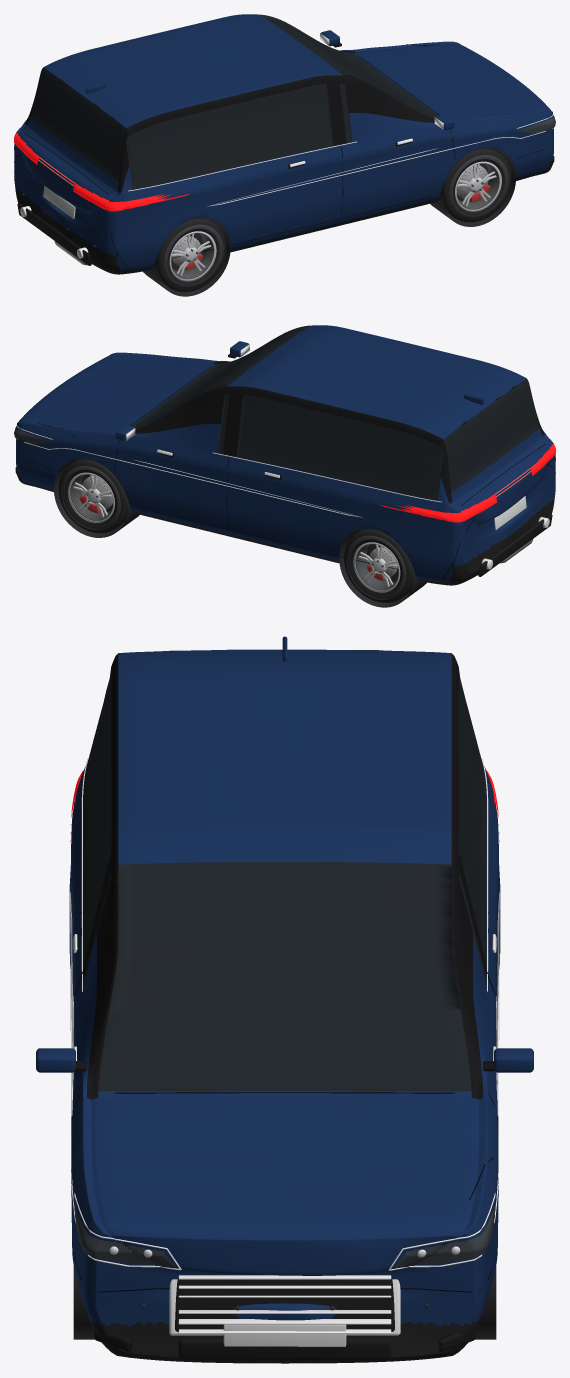
Rendered from van.glb.
The picture shows the model from 3 angles, top to bottom: view 1: azimuth 30°, elevation 25°; view 2: azimuth 150°, elevation 25°; view 3: azimuth 270°, elevation 25°; orthographic projection. The views are drawn at different scales.
Parts seen in each view (by area): view 1: karosserie, bt:rad_hr, bt:rad_vr, rueckleuchte_-1, diffusor, scheinwerfer_rand_-1, radhausschale.003, radhausschale.001, bt:bremse_vr, kennzeichen_hinten, bt:bremse_hr; view 2: karosserie, bt:rad_hl, bt:rad_vl, rueckleuchte_1, diffusor, scheinwerfer_rand_1, radhausschale.002, radhausschale, bt:bremse_vl, bt:bremse_hl, kennzeichen_hinten; view 3: karosserie, grill, lufteinlass, kennzeichen_vorn, scheinwerfer_-1, scheinwerfer_1, grill_lamelle_1, scheinwerfer_rand_1, scheinwerfer_rand_-1, grill_lamelle_5, grill_rahmen, spiegel_1 (+3 smaller).
Boxes of the visible parts, x1,y1,x2,y2 form: karosserie: (14,14,553,274); bt:rad_hr: (156,217,225,291); bt:rad_vr: (442,147,511,222); rueckleuchte_-1: (73,183,190,211); diffusor: (17,203,91,265); scheinwerfer_rand_-1: (207,114,554,206); radhausschale.003: (143,218,230,296); radhausschale.001: (430,148,515,226); bt:bremse_vr: (456,164,490,202); kennzeichen_hinten: (43,186,75,218); bt:bremse_hr: (172,236,202,269); karosserie: (16,325,555,585); bt:rad_hl: (344,528,413,602); bt:rad_vl: (58,458,127,533); rueckleuchte_1: (379,494,496,522); diffusor: (478,514,552,576); scheinwerfer_rand_1: (15,425,362,517); radhausschale.002: (339,529,426,607); radhausschale: (54,459,139,537); bt:bremse_vl: (79,475,113,513); bt:bremse_hl: (367,547,397,580); kennzeichen_hinten: (494,496,526,529); karosserie: (69,649,500,1363); grill: (175,1279,394,1331); lufteinlass: (178,1338,391,1359); kennzeichen_vorn: (223,1324,346,1346); scheinwerfer_-1: (73,1198,176,1267); scheinwerfer_1: (394,1198,496,1268); grill_lamelle_1: (178,1319,391,1324); scheinwerfer_rand_1: (388,892,499,1270); scheinwerfer_rand_-1: (70,892,181,1270); grill_lamelle_5: (178,1275,391,1279); grill_rahmen: (169,1279,400,1335); spiegel_1: (494,1048,533,1072).
Size of the model in its own units: 4.56 by 1.7 by 2.11.
